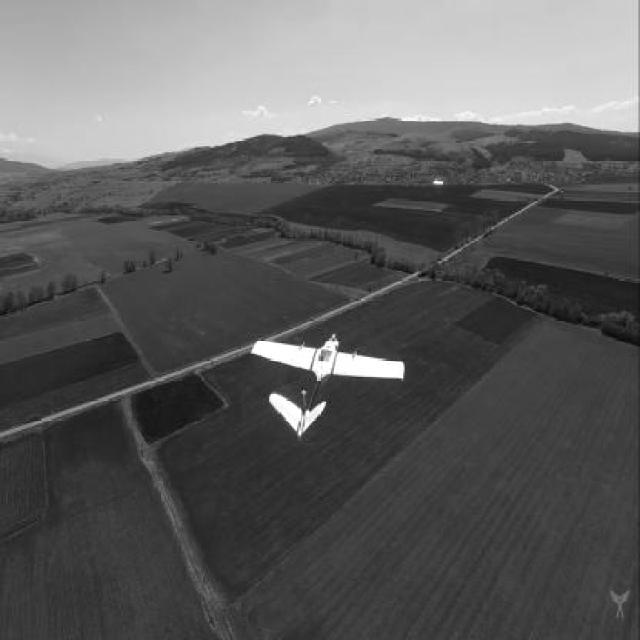iha: (235, 301, 405, 452)
